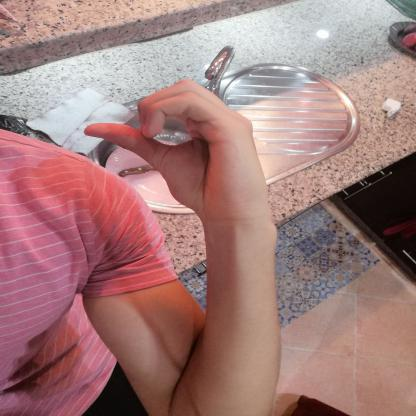WAW: (70, 69, 284, 230)
